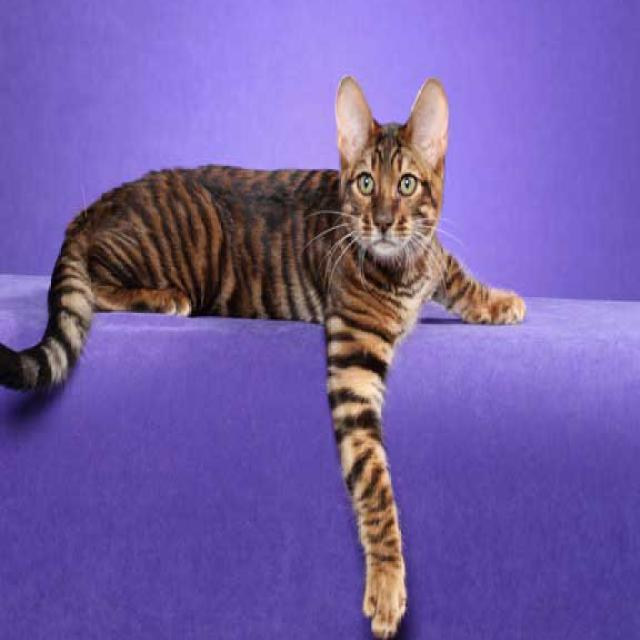Toyger: (0, 68, 529, 640)
